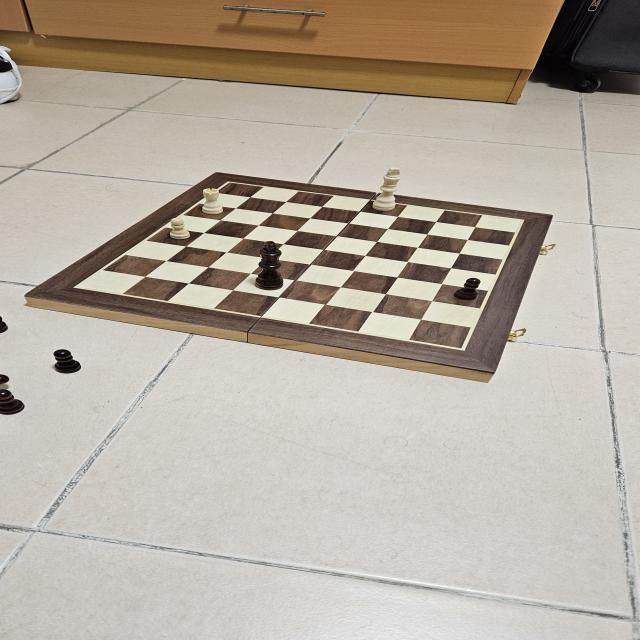chess-table-corners: (451, 344, 472, 352), (71, 284, 88, 289), (516, 218, 529, 222), (222, 180, 235, 184)
